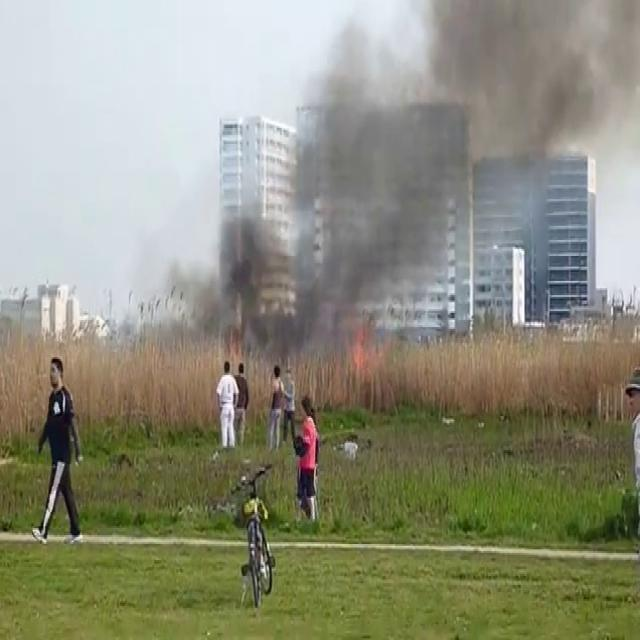Smoke: (179, 1, 640, 363)
